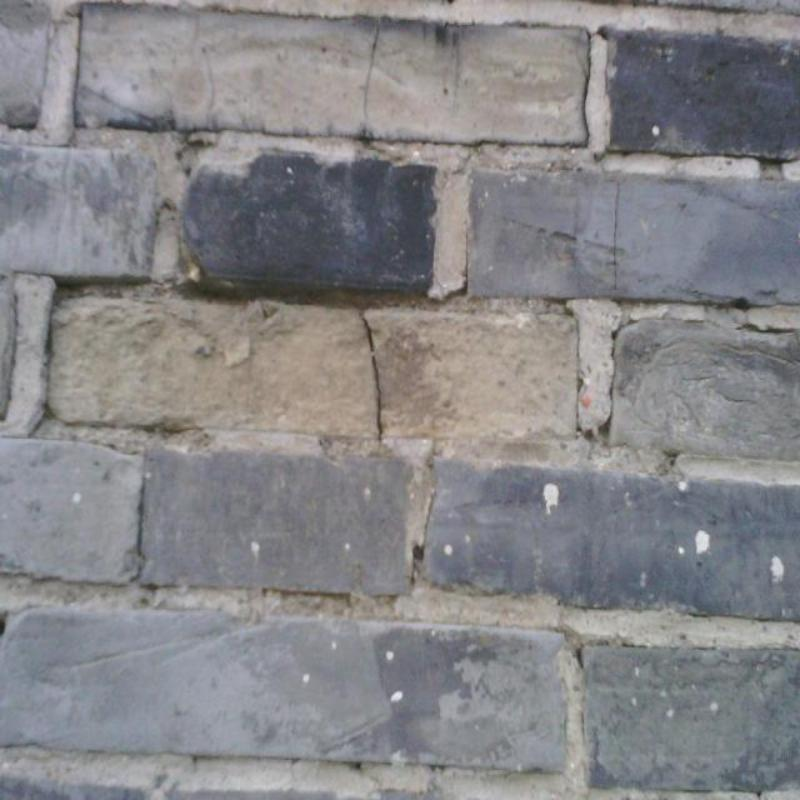pothole: (28, 279, 74, 439), (599, 320, 639, 434), (361, 317, 384, 438), (129, 475, 146, 584), (364, 21, 380, 117), (613, 179, 621, 290)
